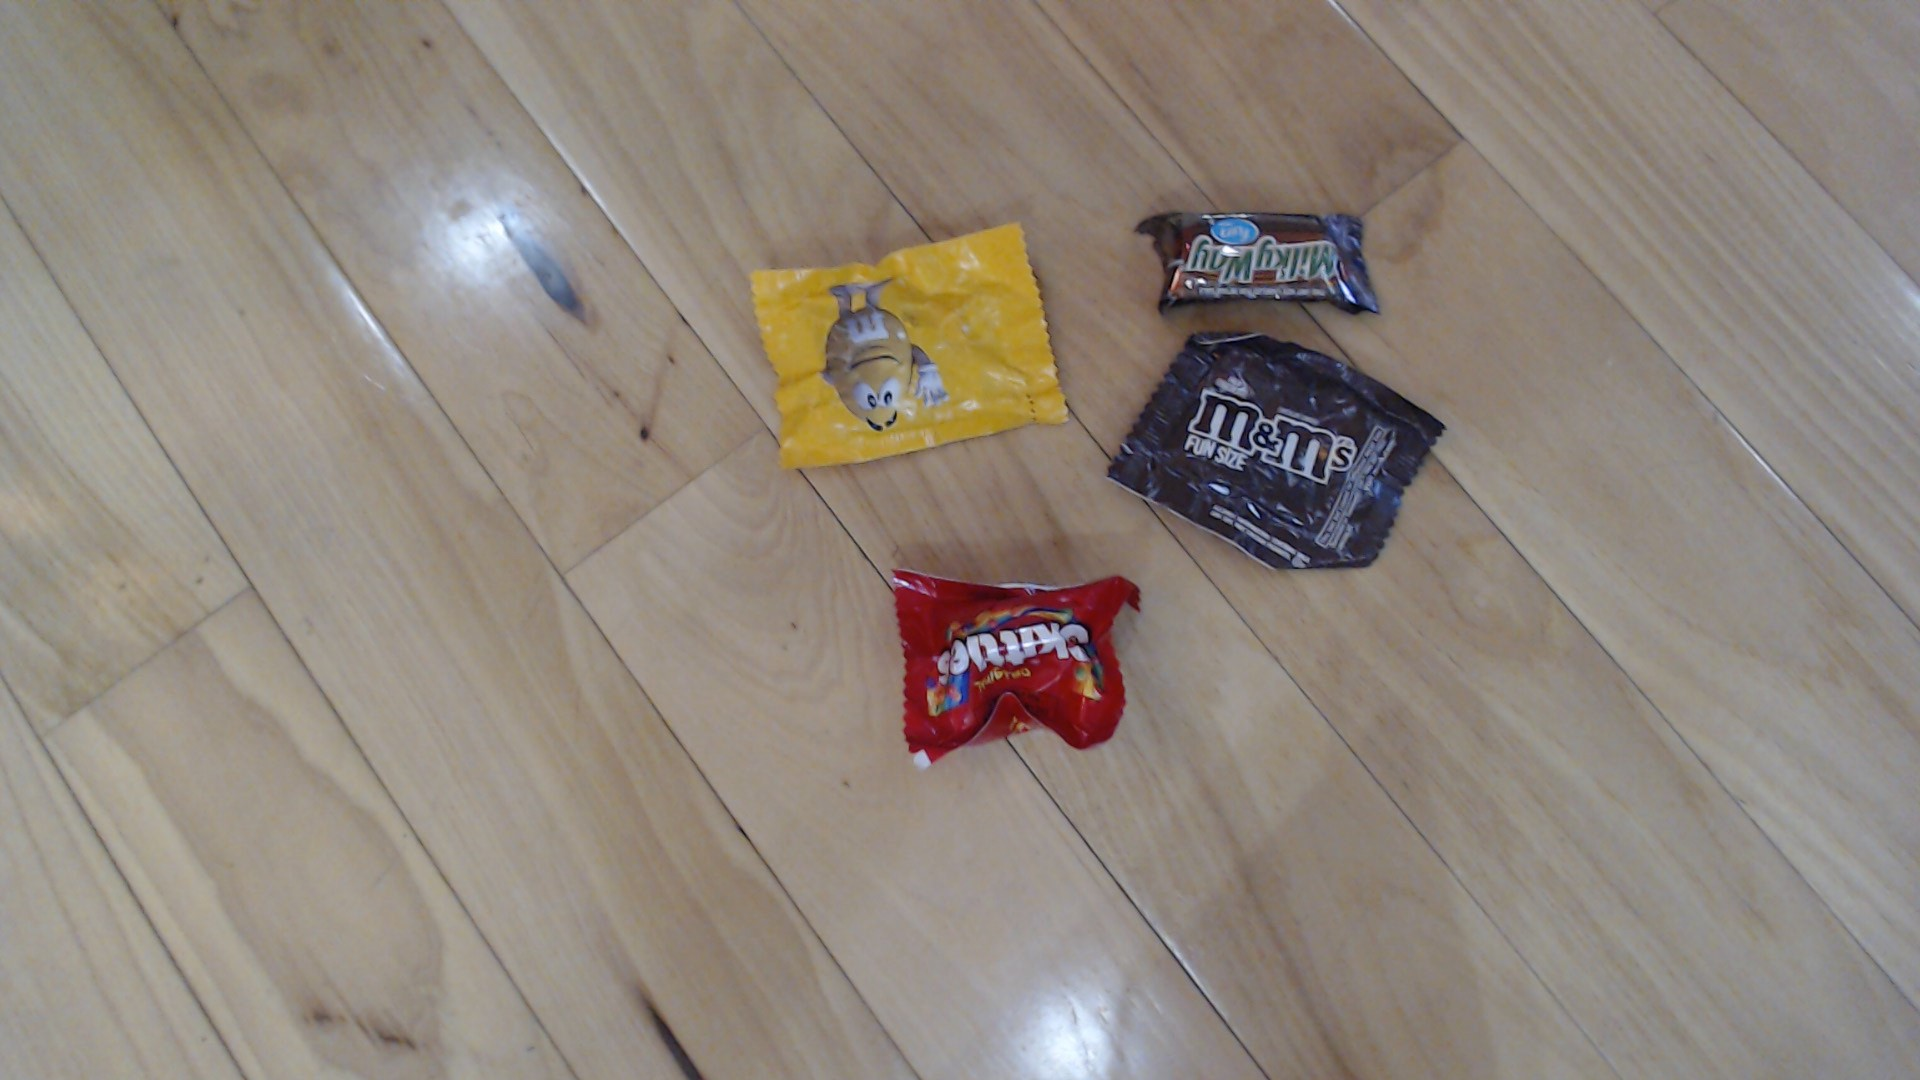MMs_peanut: (1098, 316, 1449, 566)
MMs_regular: (713, 241, 1092, 469)
milky_way: (1122, 195, 1404, 311)
skittles: (880, 558, 1168, 779)
